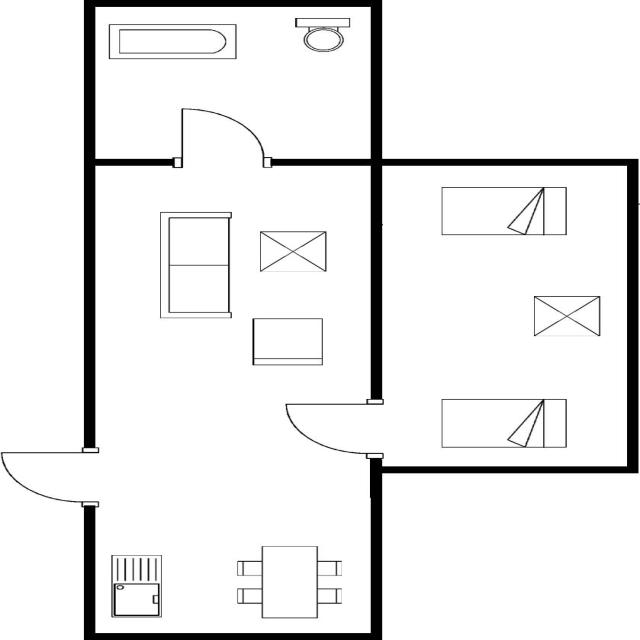bed: (435, 183, 573, 239), (435, 396, 571, 452)
coffee_table: (524, 291, 606, 338), (254, 228, 334, 274)
dining_table: (227, 541, 350, 621)
large_sink: (288, 14, 354, 54)
large_sofa: (153, 209, 238, 322)
sink: (100, 552, 172, 621)
small_sofa: (246, 313, 330, 370)
tub: (105, 22, 242, 63)
